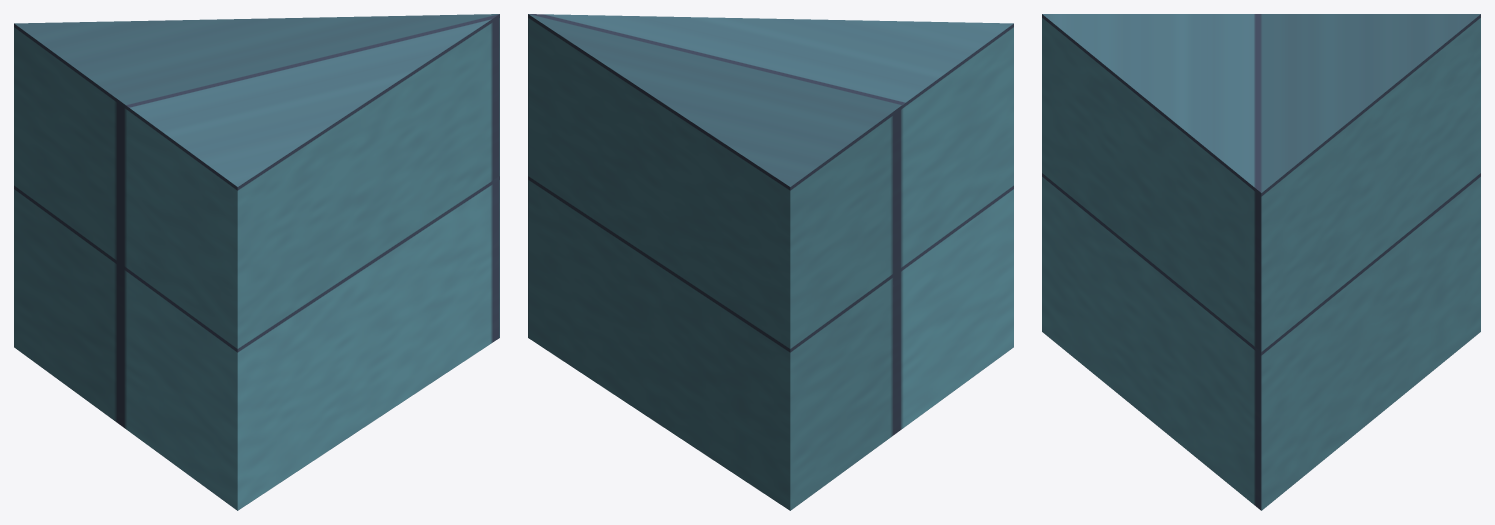
3 renders of one model, left to right at view 1: azimuth 30°, elevation 25°; view 2: azimuth 150°, elevation 25°; view 3: azimuth 270°, elevation 25°, orthographic.
Parts seen in each view (by area): view 1: geometry_0; view 2: geometry_0; view 3: geometry_0.
Boxes of the visible parts, x1,y1,x2,y2 form: geometry_0: (14,14,499,510); geometry_0: (528,14,1013,510); geometry_0: (1042,14,1480,510).
Size of the model in its own units: 2.22 by 1.84 by 2.3.
Materials: 1 (1 with a texture image).
